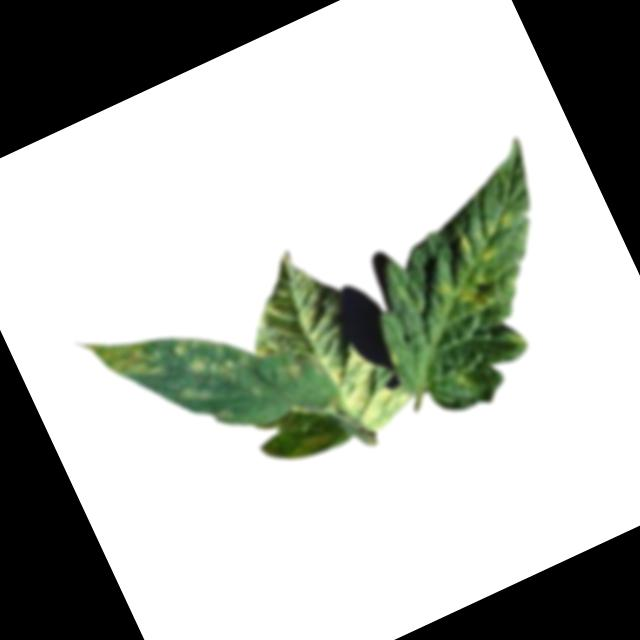Leaf_Mold: (319, 329, 416, 441), (90, 321, 167, 394), (452, 207, 526, 270), (188, 340, 256, 394), (440, 264, 499, 322), (168, 332, 206, 363), (276, 356, 312, 387)
